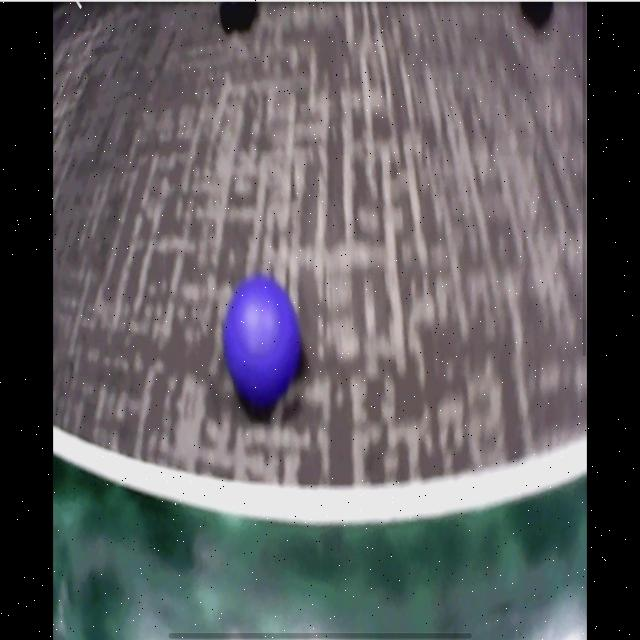ball: (224, 278, 301, 411)
